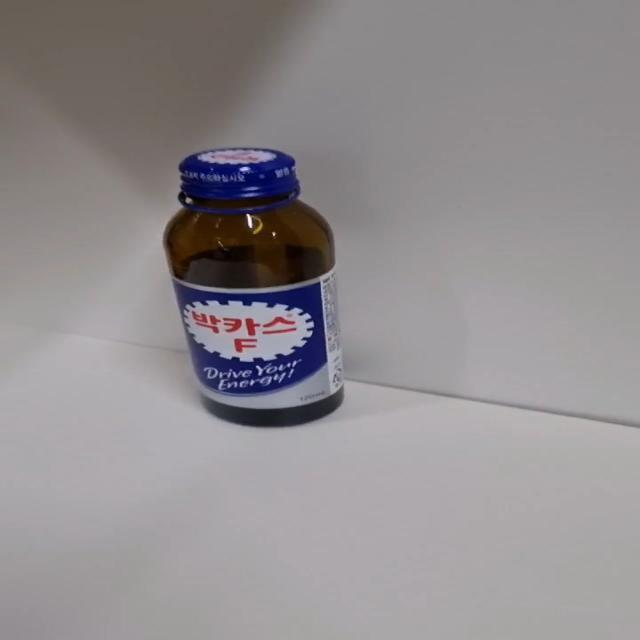Glass: (161, 146, 345, 430)
